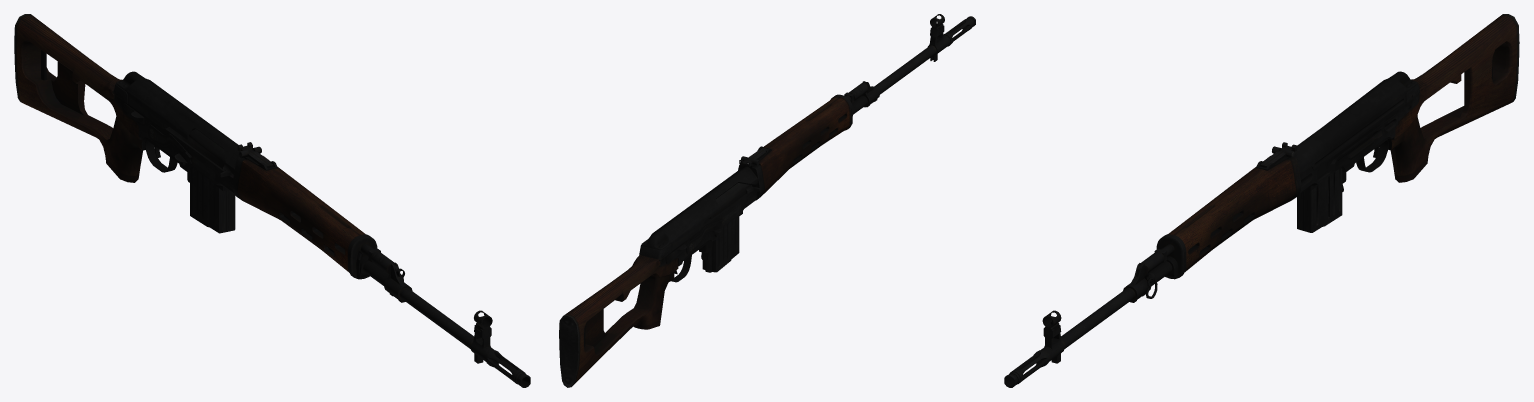
File: SVD.FBX
3 renders of one model, left to right at view 1: azimuth 30°, elevation 25°; view 2: azimuth 150°, elevation 25°; view 3: azimuth 330°, elevation 25°, orthographic. The views are drawn at different scales.
Visible parts, largest first — view 1: Mesh_0009, MAG, BOLT; view 2: Mesh_0009, MAG, BOLT; view 3: Mesh_0009, MAG.
Part boxes in pixels (bbox=[...]): Mesh_0009: bbox=[14, 14, 530, 387]; MAG: bbox=[190, 167, 235, 233]; BOLT: bbox=[181, 129, 233, 177]; Mesh_0009: bbox=[559, 14, 975, 387]; MAG: bbox=[702, 217, 739, 272]; BOLT: bbox=[709, 183, 760, 218]; Mesh_0009: bbox=[1004, 14, 1519, 387]; MAG: bbox=[1297, 168, 1342, 232].
Size of the model in its own units: 5.18 by 16.79 by 122.
